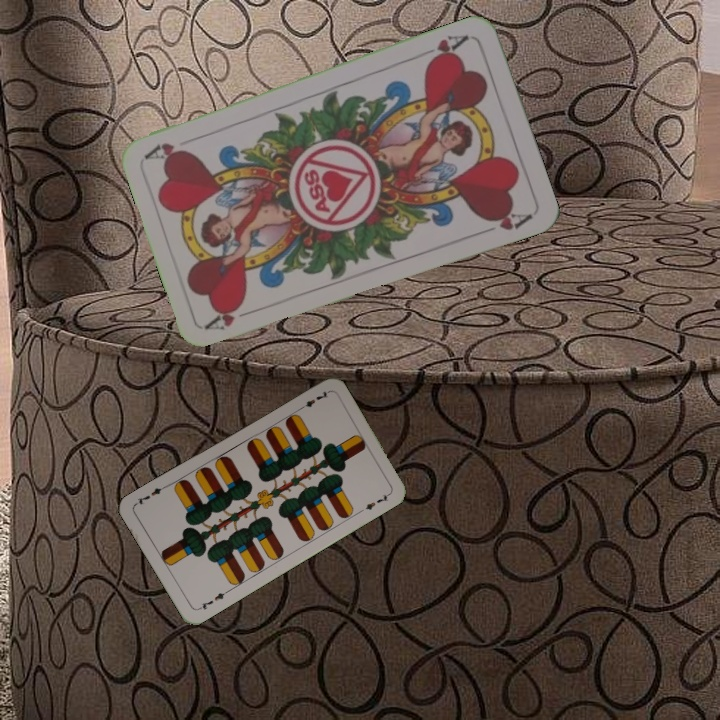E7: (194, 587, 231, 613), (294, 387, 331, 413)
HA: (416, 30, 472, 67), (202, 298, 260, 333)
